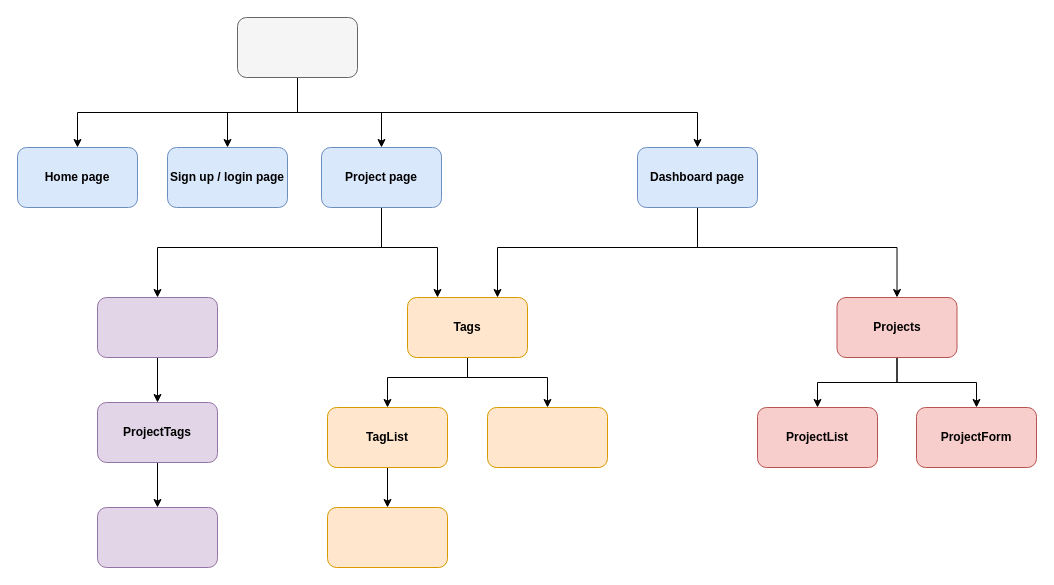
This 1054x585 diagram has some shape labels left out. Here are the shapes that lost their labels. From the top down, the centre of each, then its label:
pixel 297 47: App
pixel 157 327: ProjectDetail
pixel 547 437: TagForm
pixel 157 537: ProjectTagDetail
pixel 387 537: TagDetail
